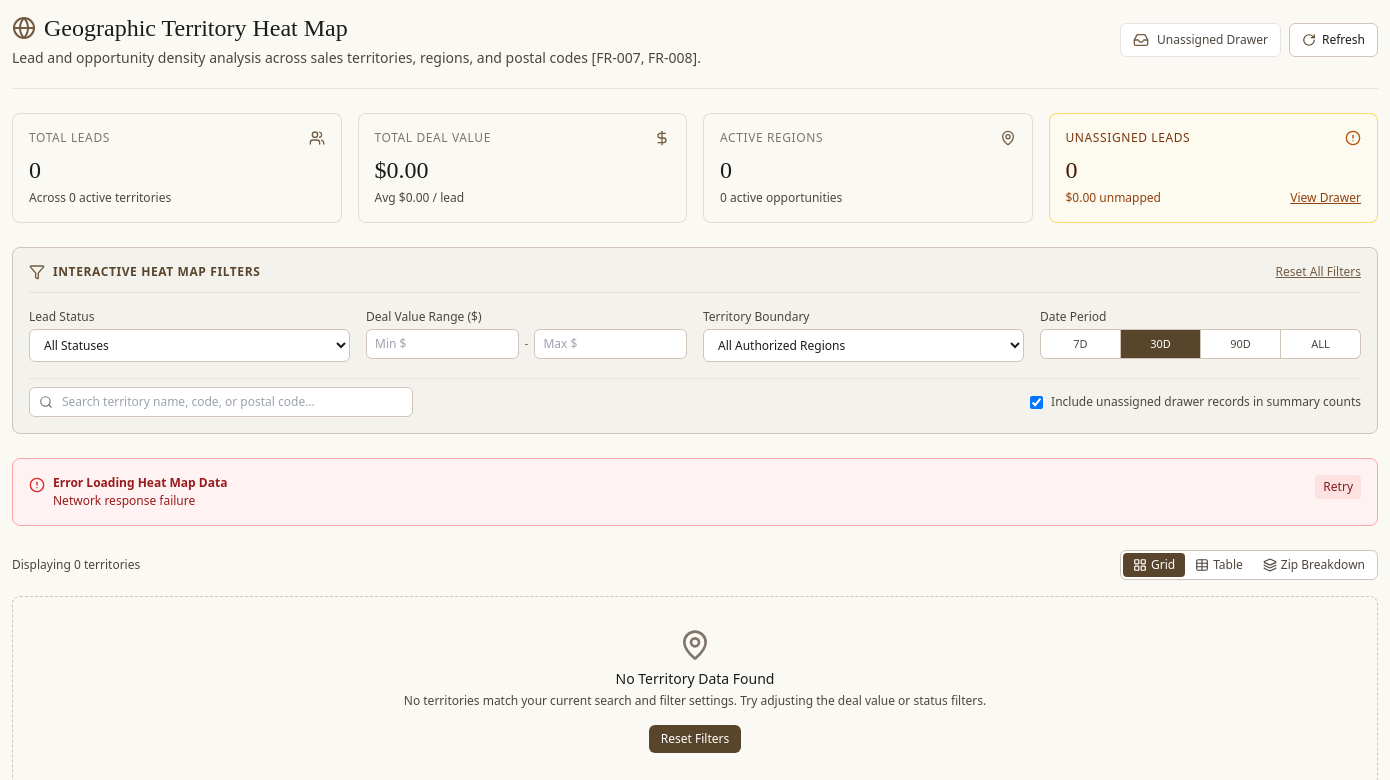
Test: TerritoryHeatMap Component [FR-007, FR-008] › Component Rendering & Interactive Features [FR-007, FR-008] › displays error message and handles retry button click
The width and height of the screenshot is (1390, 780).
Expected: the text "Network response failure" is shown, [53,492,195,509]
Click the button "Retry".
click(1338, 487)  # box [1315,475,1361,499]
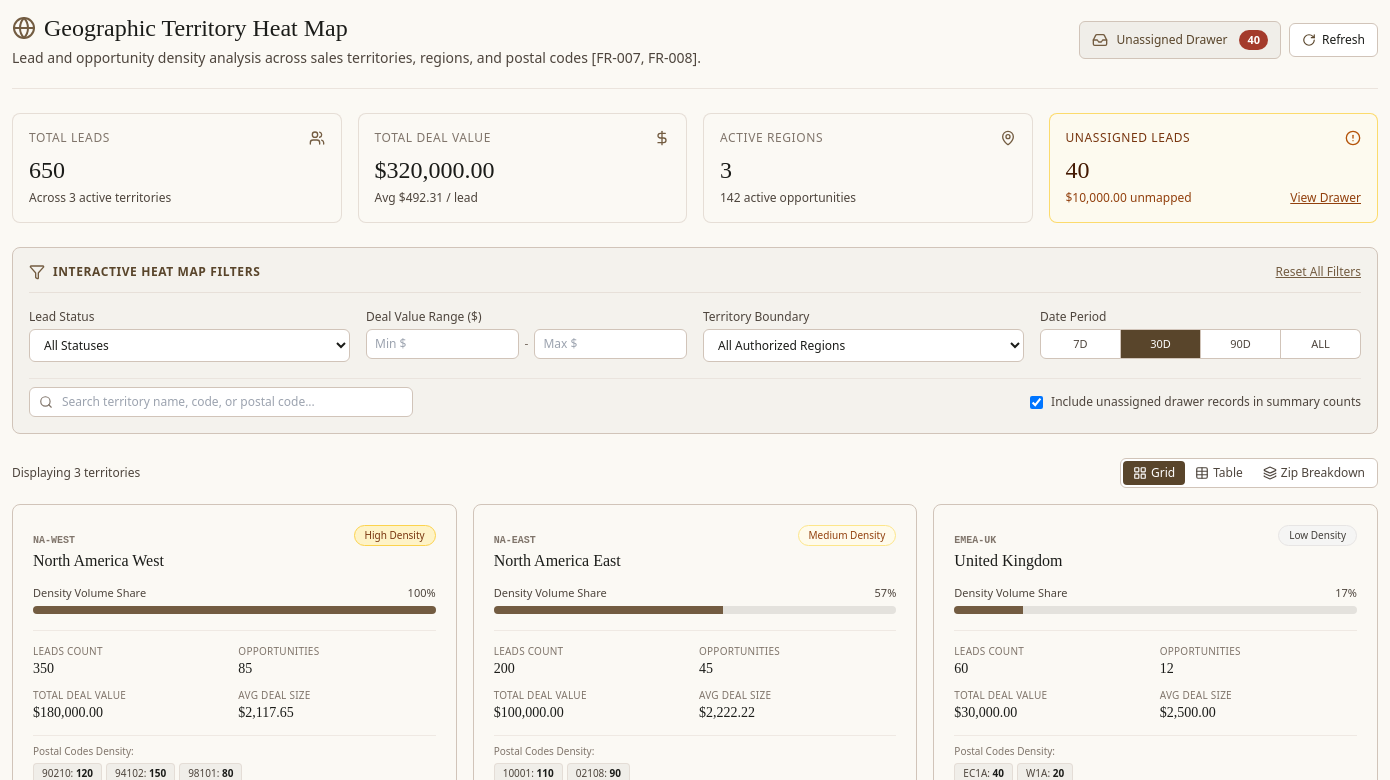
Result: the heading "North America West" is shown at [33,549,164,573]
